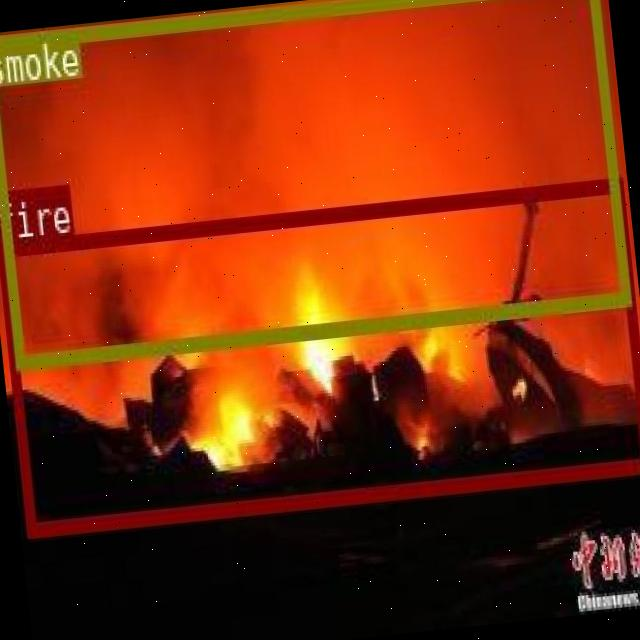fire: (0, 175, 640, 533)
smoke: (0, 0, 627, 365)
